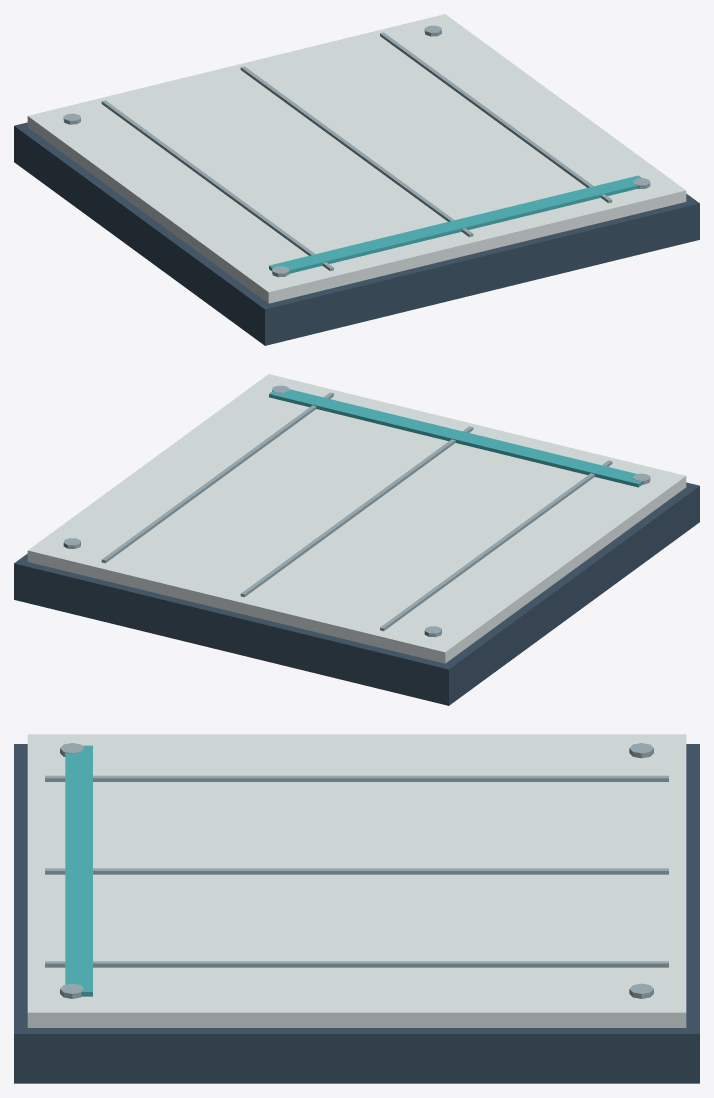
Rendered from orbital-field-station-two-metre-deck-tile__142.glb.
The picture shows the model from 3 angles, top to bottom: view 1: azimuth 30°, elevation 25°; view 2: azimuth 150°, elevation 25°; view 3: azimuth 270°, elevation 25°; orthographic projection. The views are drawn at different scales.
Parts seen in each view (by area): view 1: shell, dark, metal, accent; view 2: shell, dark, metal, accent; view 3: shell, dark, metal, accent.
Part boxes in pixels (x1,y1,x2,y2): shell: [27, 14, 686, 303]; dark: [14, 122, 699, 345]; metal: [63, 25, 650, 277]; accent: [269, 175, 641, 273]; shell: [27, 374, 686, 663]; dark: [14, 482, 699, 705]; metal: [63, 385, 650, 637]; accent: [269, 389, 642, 487]; shell: [27, 734, 686, 1027]; dark: [14, 744, 699, 1083]; metal: [45, 743, 668, 998]; accent: [65, 745, 92, 996].
Bounding box in the file's own units: 2 × 0.226 × 2.
